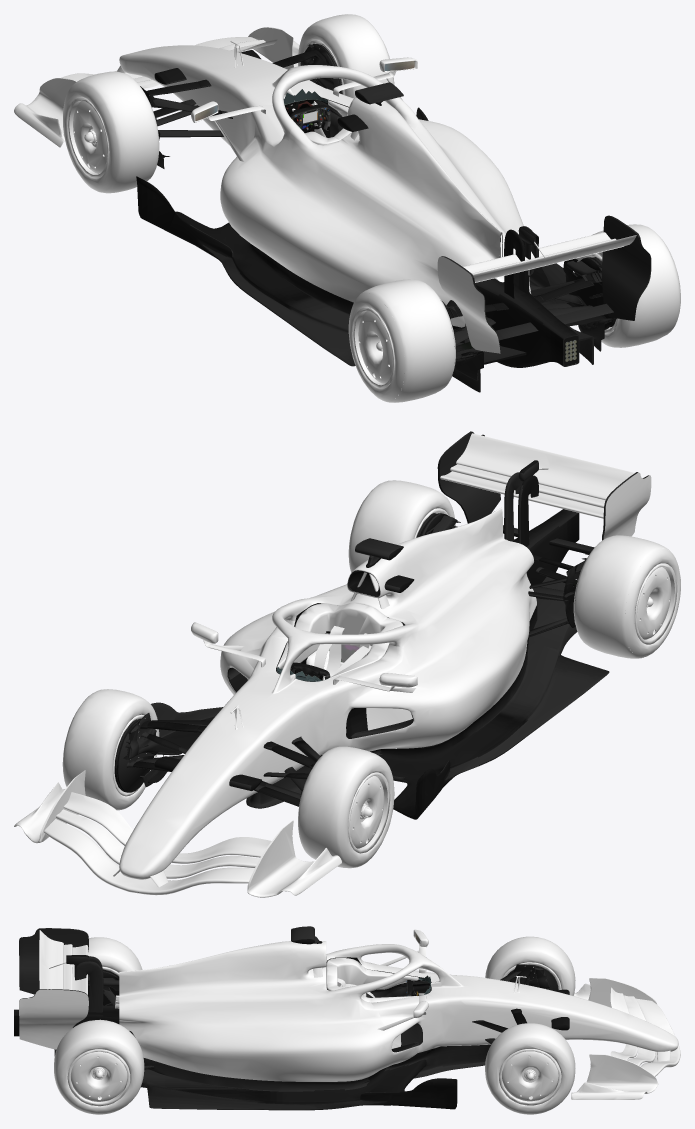
3 renders of one model, top to bottom at view 1: azimuth 30°, elevation 25°; view 2: azimuth 150°, elevation 25°; view 3: azimuth 270°, elevation 25°, orthographic. The views are drawn at different scales.
Visible parts, largest first — view 1: body, wheel-back-left, wheel-front-left, wheel-back-right, wheel-front-right; view 2: body, wheel-back-left, wheel-front-left, wheel-front-right, wheel-back-right; view 3: body, wheel-back-right, wheel-front-right, wheel-front-left, wheel-back-left.
Part boxes in pixels (bbox=[...]): body: bbox=[14, 27, 651, 392]; wheel-back-left: bbox=[348, 279, 455, 402]; wheel-front-left: bbox=[63, 71, 159, 193]; wheel-back-right: bbox=[573, 224, 680, 347]; wheel-front-right: bbox=[298, 14, 394, 98]; body: bbox=[14, 431, 651, 897]; wheel-back-left: bbox=[573, 535, 680, 658]; wheel-front-left: bbox=[298, 746, 394, 868]; wheel-front-right: bbox=[62, 689, 159, 810]; wheel-back-right: bbox=[348, 480, 455, 572]; body: bbox=[14, 926, 680, 1110]; wheel-back-right: bbox=[54, 1019, 144, 1114]; wheel-front-right: bbox=[485, 1023, 575, 1114]; wheel-front-left: bbox=[485, 936, 575, 995]; wheel-back-left: bbox=[88, 937, 142, 976].
Size of the model in its own units: 1.97 by 1.17 by 5.27.
Materials: 20 (19 with a texture image).
